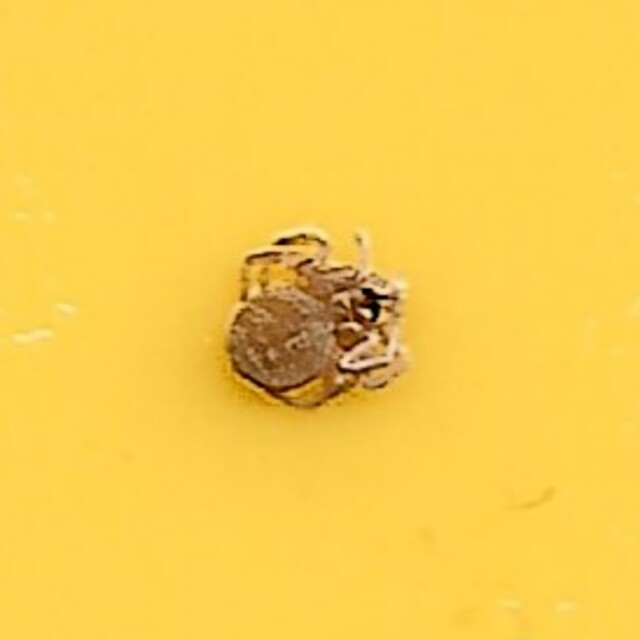Araneae: (234, 227, 406, 413)
